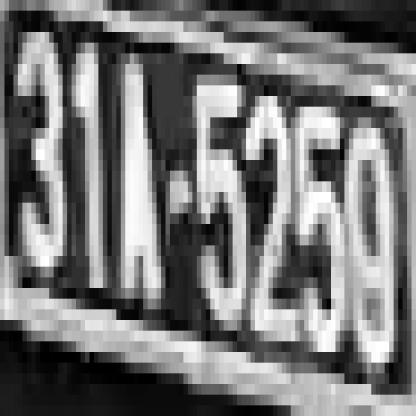1: (71, 32, 112, 277)
2: (242, 96, 290, 341)
3: (18, 32, 67, 267)
5: (192, 75, 246, 320), (291, 107, 340, 341)
9: (344, 117, 393, 363)
A: (121, 53, 170, 288)
